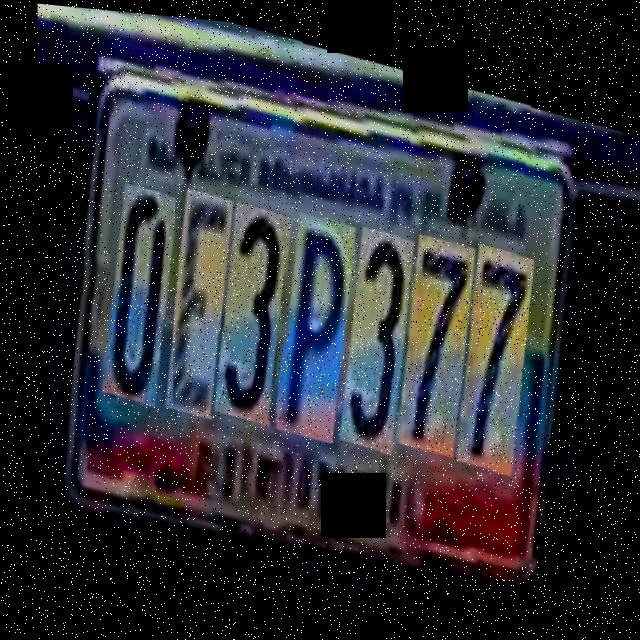0: (81, 175, 195, 409)
3: (317, 208, 432, 446), (195, 189, 309, 423)
7: (434, 220, 552, 461), (376, 212, 493, 447)
E: (143, 177, 254, 420)
P: (255, 197, 373, 437)
